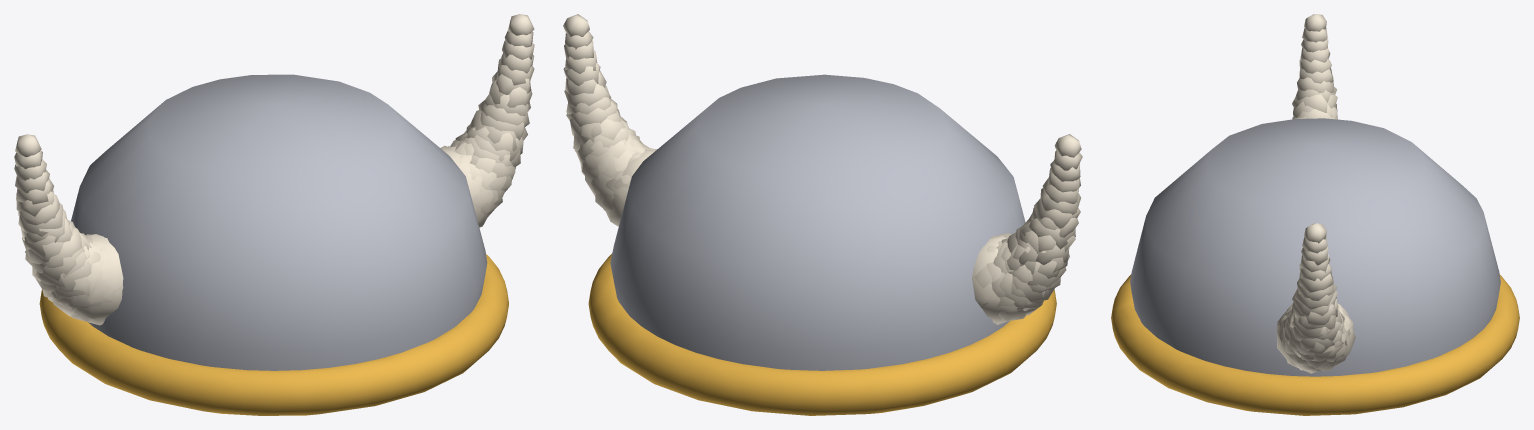
File: vikinghelm.glb
3 views of the same model, side by side, from view 1: azimuth 30°, elevation 25°; view 2: azimuth 150°, elevation 25°; view 3: azimuth 270°, elevation 25° (orthographic). The views are drawn at different scales.
Visible parts, largest first — view 1: vikinghelm_Dome, vikinghelm_Rim, vikinghelm; view 2: vikinghelm_Dome, vikinghelm_Rim, vikinghelm; view 3: vikinghelm_Dome, vikinghelm_Rim, vikinghelm.
Boxes of the visible parts, <box> form: vikinghelm_Dome: <box>71,74,487,370</box>; vikinghelm_Rim: <box>39,254,508,415</box>; vikinghelm: <box>14,14,534,325</box>; vikinghelm_Dome: <box>610,74,1025,370</box>; vikinghelm_Rim: <box>588,254,1056,415</box>; vikinghelm: <box>563,14,1082,324</box>; vikinghelm_Dome: <box>1130,118,1500,376</box>; vikinghelm_Rim: <box>1111,274,1519,415</box>; vikinghelm: <box>1276,14,1355,373</box>.
Bounding box in the file's own units: 0.4999 × 0.2312 × 0.3936.
